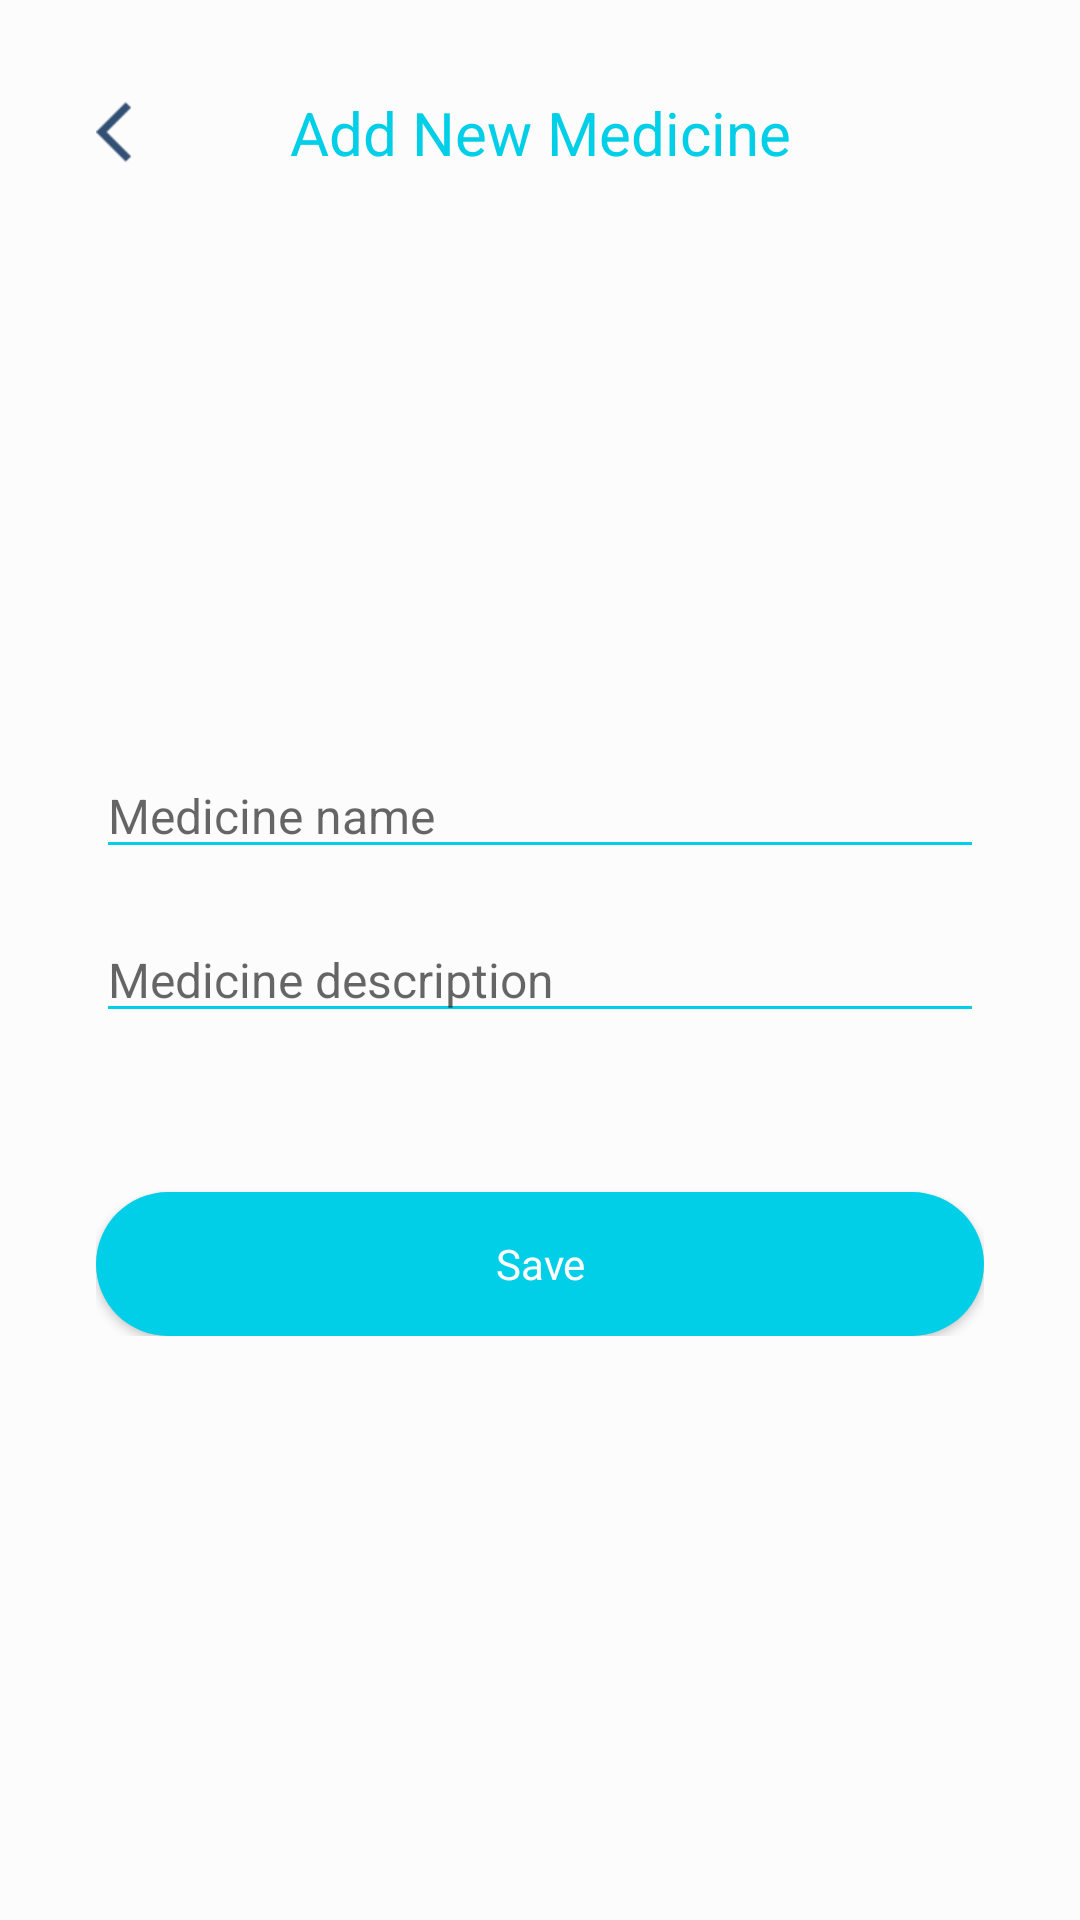

Icons on this 1080px x 1920px Android screen, each with its box as (x1, y1, x2, y2):
back: (96, 102, 131, 162)
